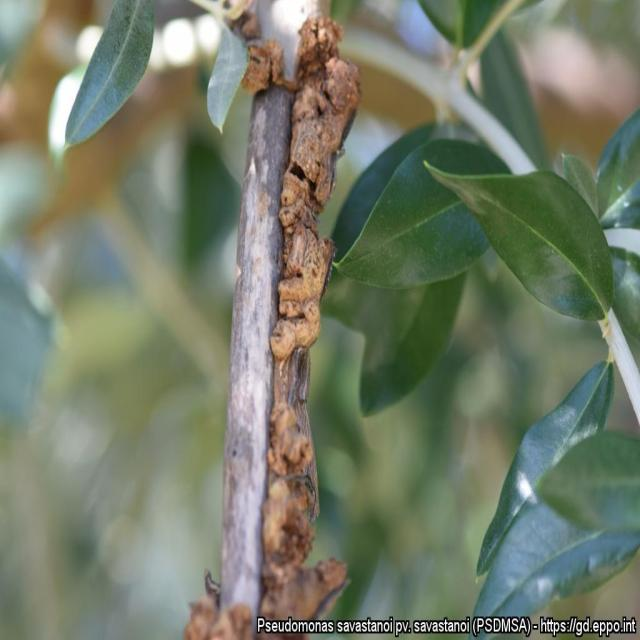Tuberculosis: (260, 14, 360, 617)
